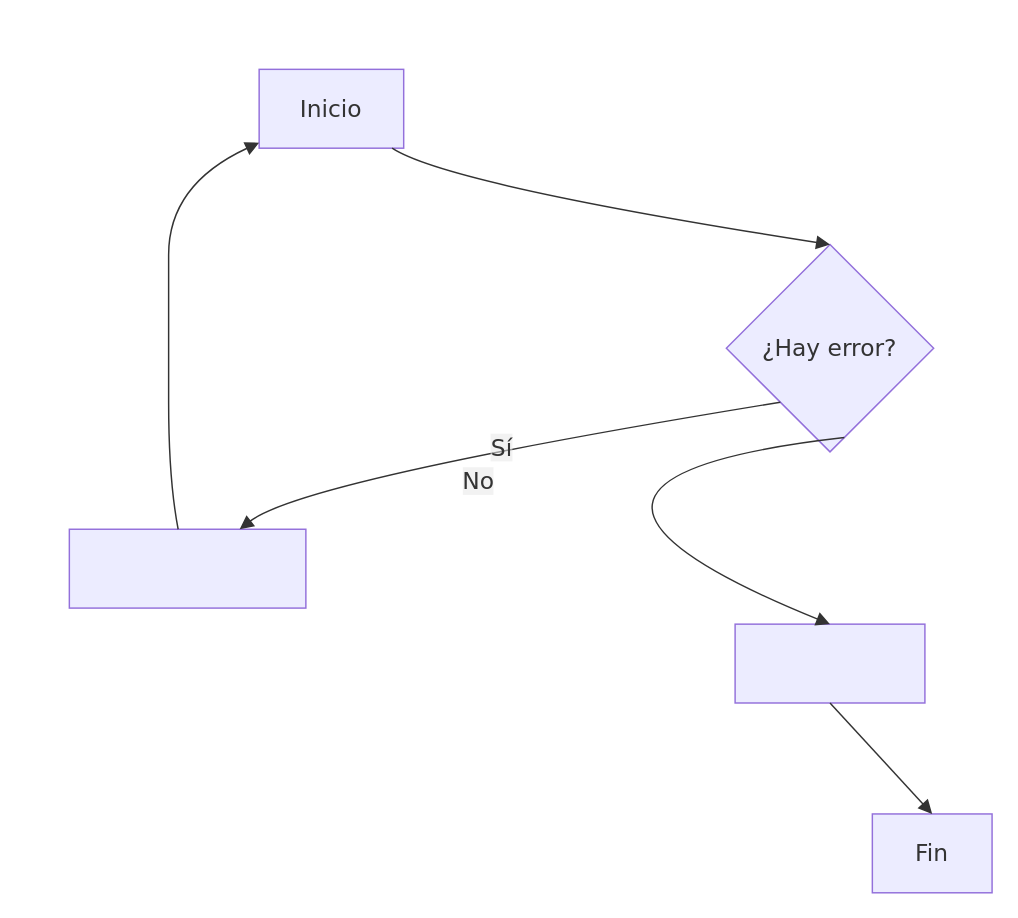
Image size: 1018x918. Some labels were removed from this diagram. Each missing label, with the centre of its shape:
Continuar: (829,663)
Revisar código: (187,568)
